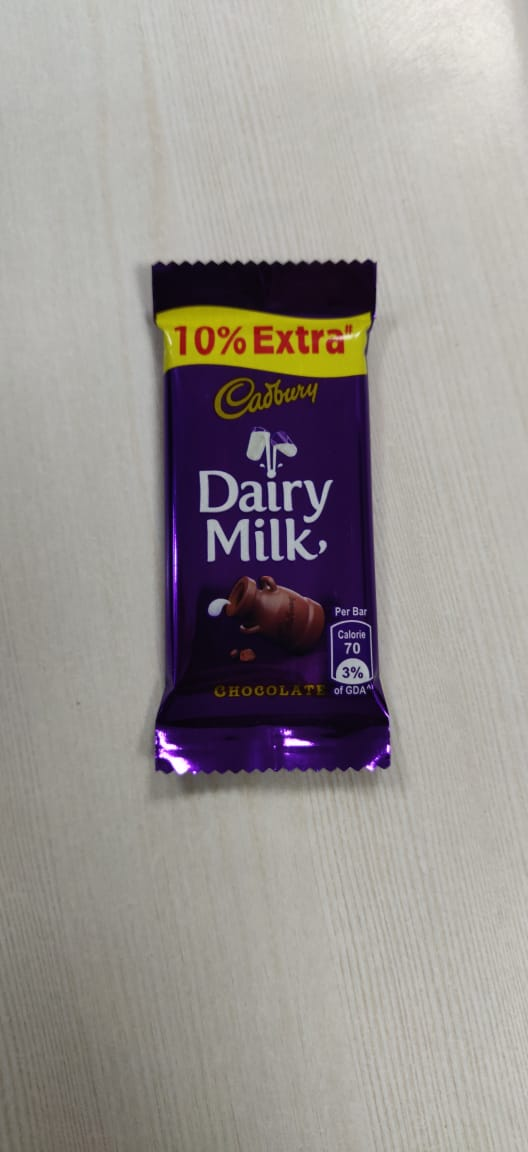dairy milk: (129, 241, 438, 813)
